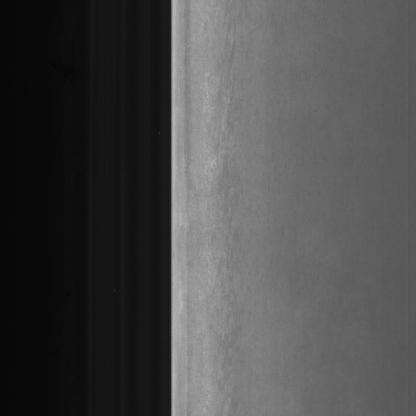silk_spot: (209, 53, 252, 286)
